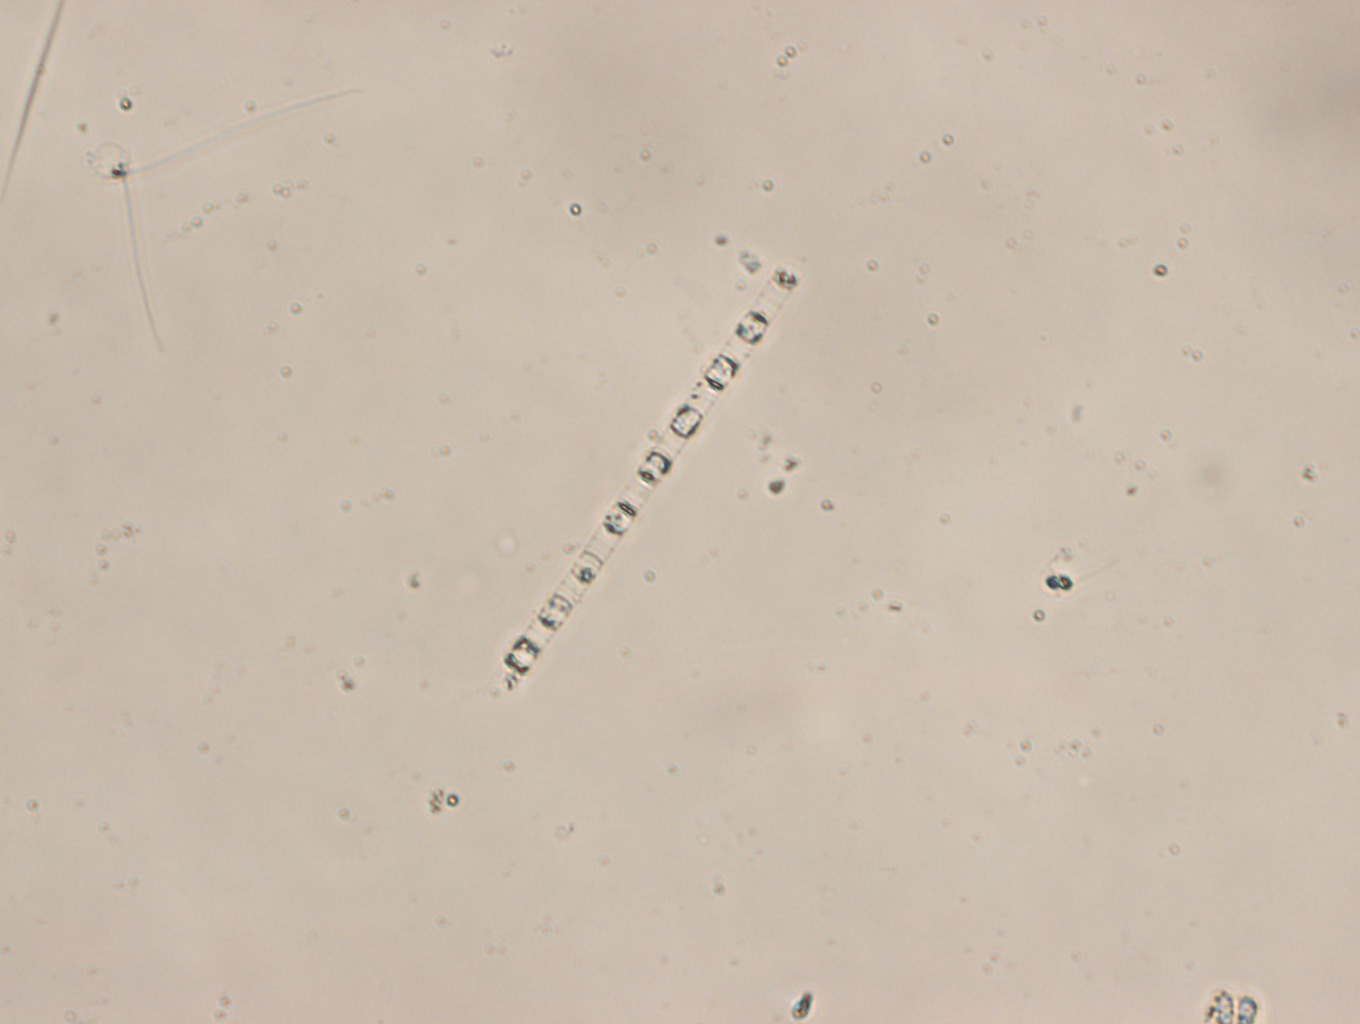skeletonema: (493, 265, 799, 692)
